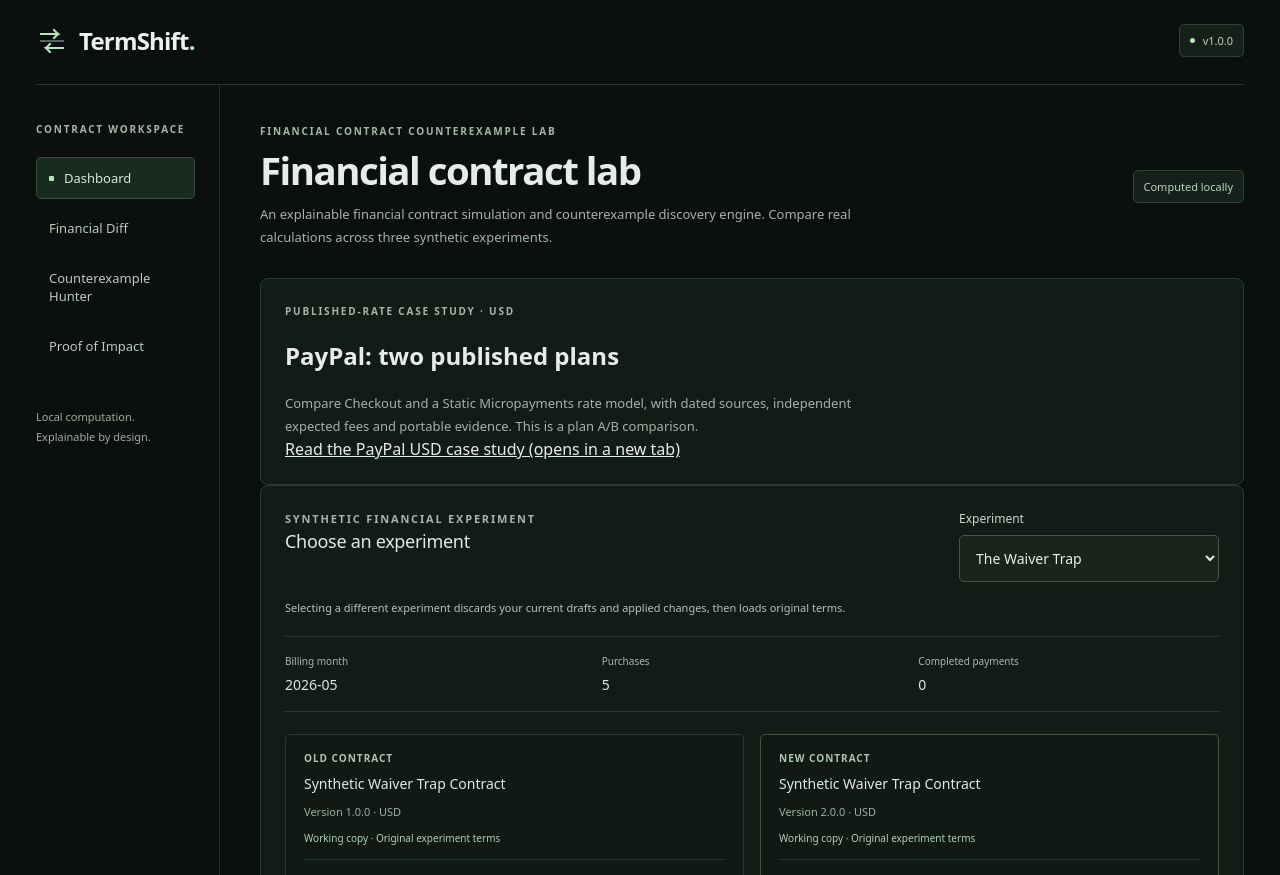
Scenario: Financial Diff navigation and shared workspace › uses the real default comparison and same Scenario for The Microtransaction Penalty
Click the button "Financial Diff".
click(116, 228)  # box [36, 207, 195, 249]
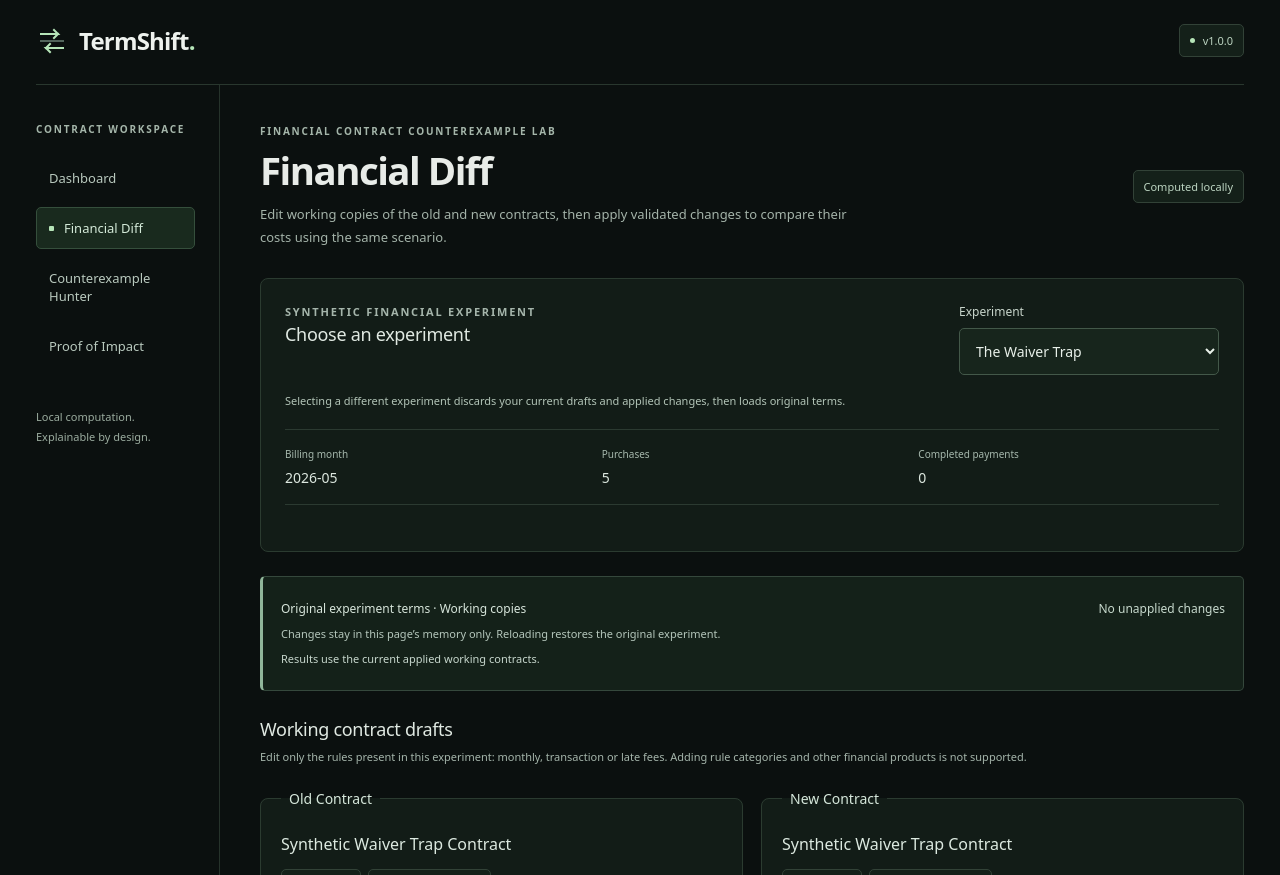
Select "The Microtransaction Penalty" in the dropdown labelled "Experiment" at (1089, 351), box [959, 328, 1219, 375]
(page scrolled)
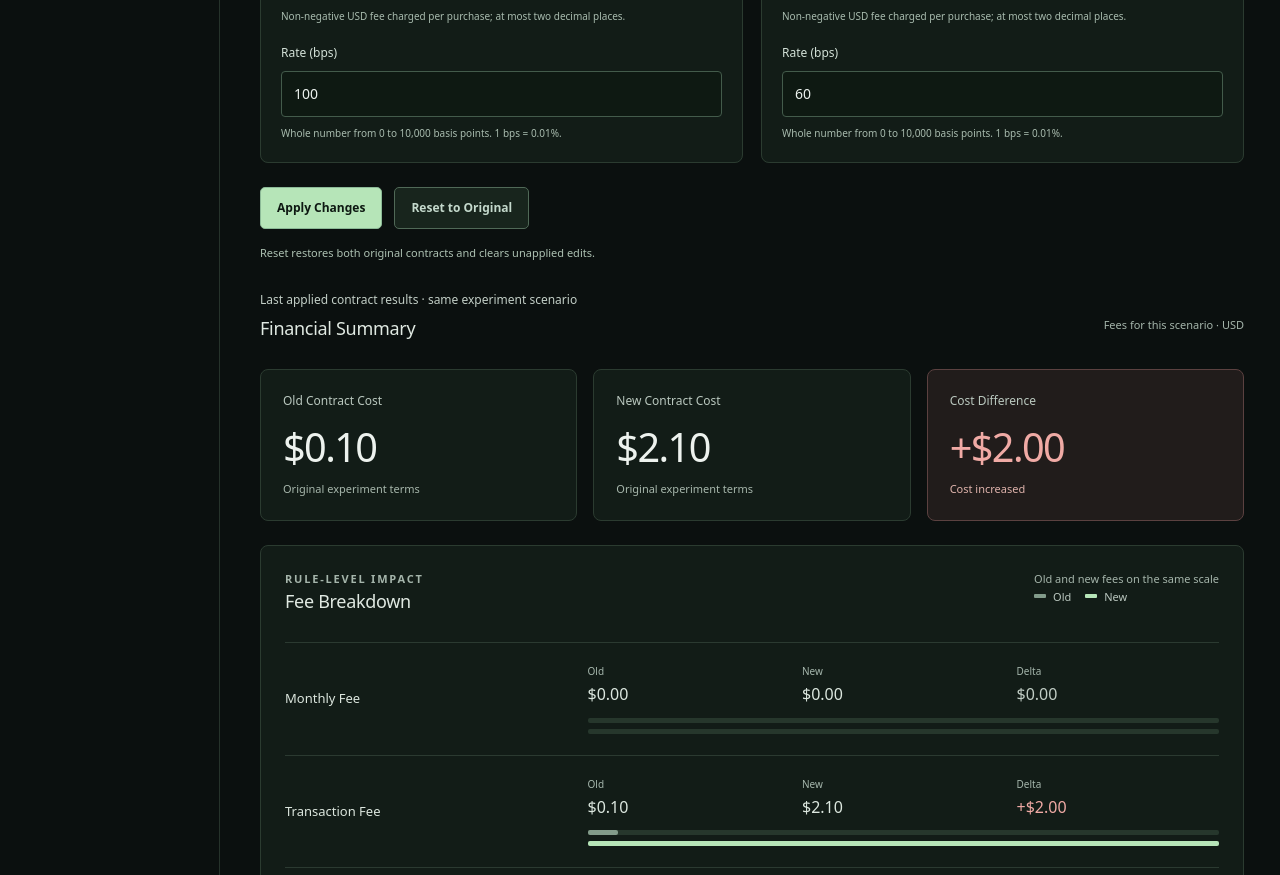
Now the text "$0.10" below "Old Contract Cost" is shown, box [283, 420, 376, 474]
Now the text "$2.10" below "New Contract Cost" is shown, box [616, 420, 710, 474]
Now the text "+$2.00" is shown, box [950, 420, 1064, 474]
